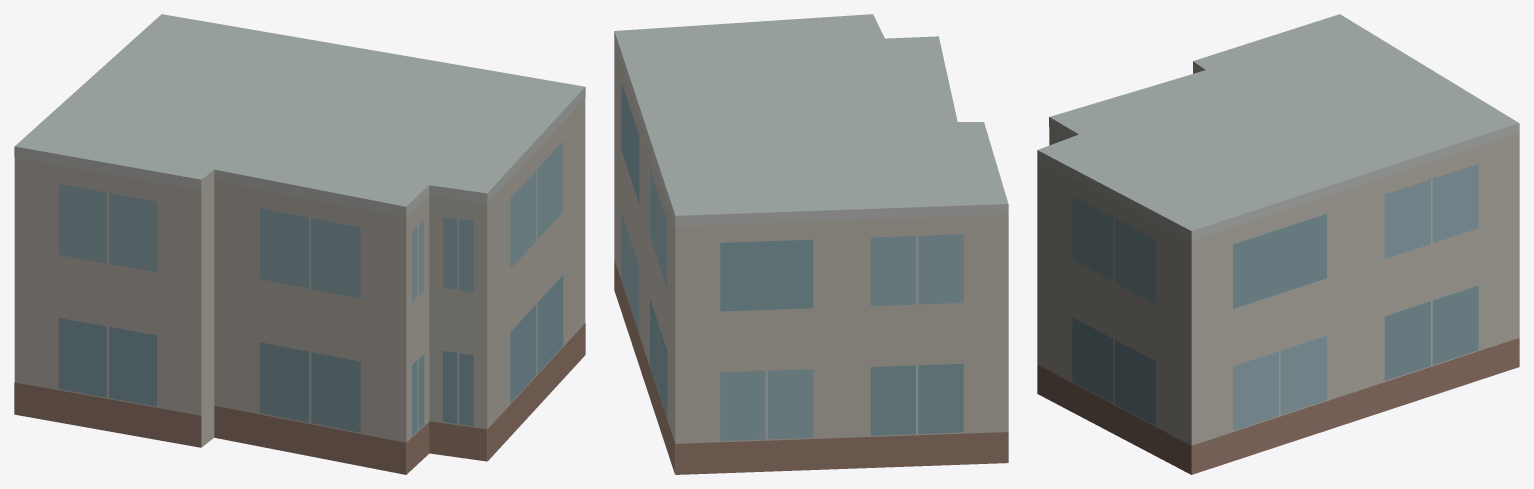
File: survey-upis-32468961.glb
3 renders of one model, left to right at view 1: azimuth 30°, elevation 25°; view 2: azimuth 150°, elevation 25°; view 3: azimuth 270°, elevation 25°, orthographic. The views are drawn at different scales.
Visible parts, largest first — view 1: survey-upis-32468961.tmp; view 2: survey-upis-32468961.tmp; view 3: survey-upis-32468961.tmp.
Boxes of the visible parts, bbox=[...] form: survey-upis-32468961.tmp: bbox=[14, 14, 585, 474]; survey-upis-32468961.tmp: bbox=[614, 14, 1008, 474]; survey-upis-32468961.tmp: bbox=[1037, 14, 1519, 474].
Size of the model in its own units: 11.66 by 6.1 by 10.95.
